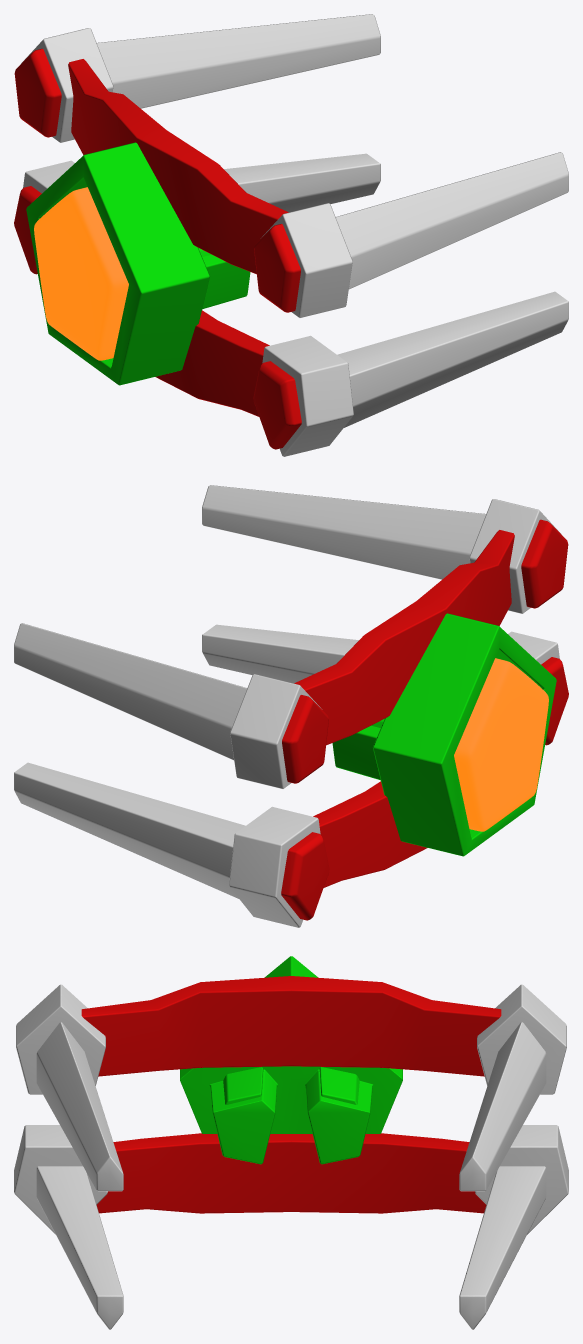
File: SM_ShieldModule_Pentagon.fbx
3 views of the same model, one above another, from view 1: azimuth 30°, elevation 25°; view 2: azimuth 150°, elevation 25°; view 3: azimuth 270°, elevation 25° (orthographic). The views are drawn at different scales.
Parts seen in each view (by area): view 1: ShieldModulePentagon, ShieldSquare_Pentagon; view 2: ShieldModulePentagon, ShieldSquare_Pentagon; view 3: ShieldModulePentagon.
Boxes of the visible parts, bbox=[...] form: ShieldModulePentagon: bbox=[14, 14, 568, 456]; ShieldSquare_Pentagon: bbox=[34, 187, 128, 360]; ShieldModulePentagon: bbox=[14, 485, 568, 927]; ShieldSquare_Pentagon: bbox=[454, 658, 548, 831]; ShieldModulePentagon: bbox=[14, 956, 568, 1329].
Size of the model in its own units: 10.9 by 13.67 by 6.34.
